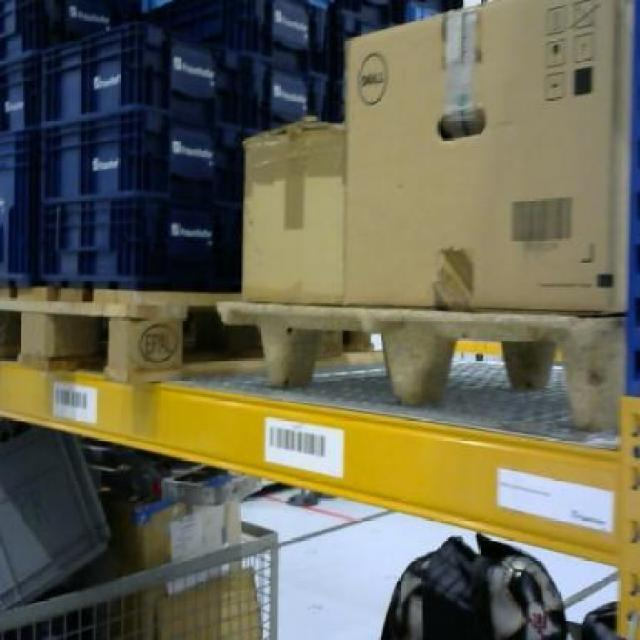box: (341, 0, 628, 314), (239, 120, 344, 309)
